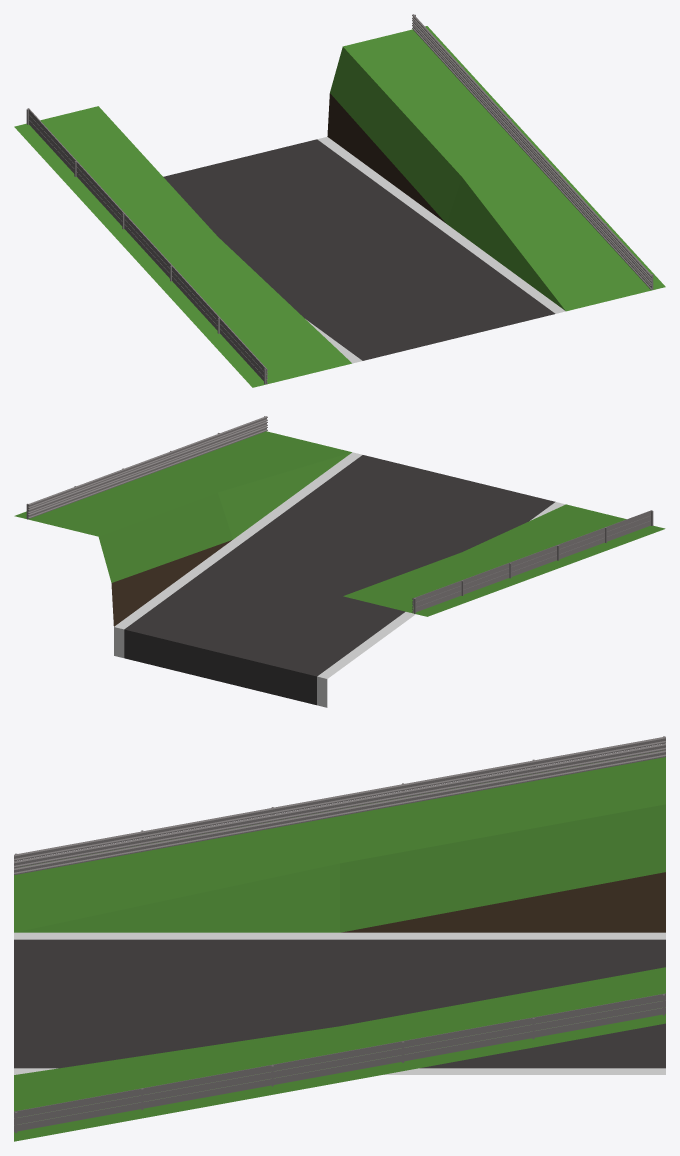
Rendered from tiles-nb-tile-race-track-cliff-entrance-nb.glb.
3 views of the same model, one above another, from view 1: azimuth 30°, elevation 25°; view 2: azimuth 150°, elevation 25°; view 3: azimuth 270°, elevation 25° (orthographic). The views are drawn at different scales.
Visible parts, largest first — view 1: tile-race-track-cliff-entrance-nb; view 2: tile-race-track-cliff-entrance-nb; view 3: tile-race-track-cliff-entrance-nb.
Part boxes in pixels (box(x1,y1,x2,y2)): tile-race-track-cliff-entrance-nb: box(14, 14, 665, 387); tile-race-track-cliff-entrance-nb: box(14, 416, 665, 707); tile-race-track-cliff-entrance-nb: box(14, 736, 665, 1141).
Size of the model in its own units: 30 by 9.05 by 30.
